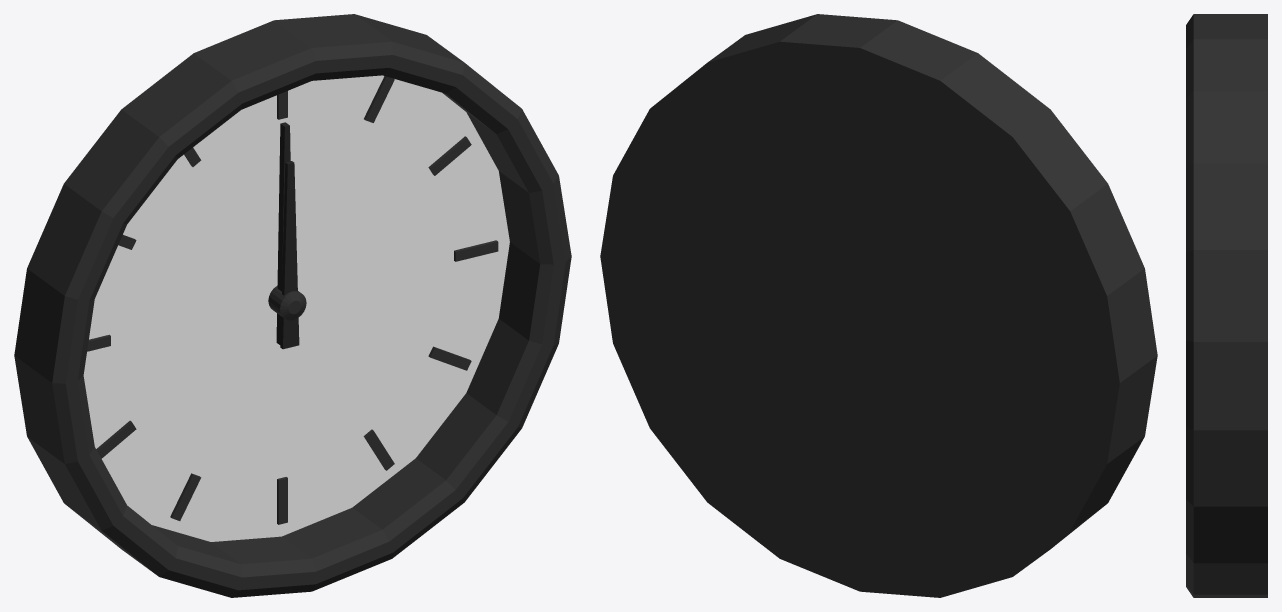
File: clock.glb
3 renders of one model, left to right at view 1: azimuth 30°, elevation 25°; view 2: azimuth 150°, elevation 25°; view 3: azimuth 270°, elevation 25°, orthographic.
Visible parts, largest first — view 1: clock, hourarm, minutearm; view 2: clock; view 3: clock.
Boxes of the visible parts, box(x1,y1,x2,y2) form: clock: box(14, 14, 571, 597); hourarm: box(280, 161, 299, 349); minutearm: box(276, 122, 290, 344); clock: box(600, 14, 1157, 597); clock: box(1186, 14, 1267, 597).
Size of the model in its own units: 0.553 by 0.553 by 0.0769.
2 materials, 1 textured.
